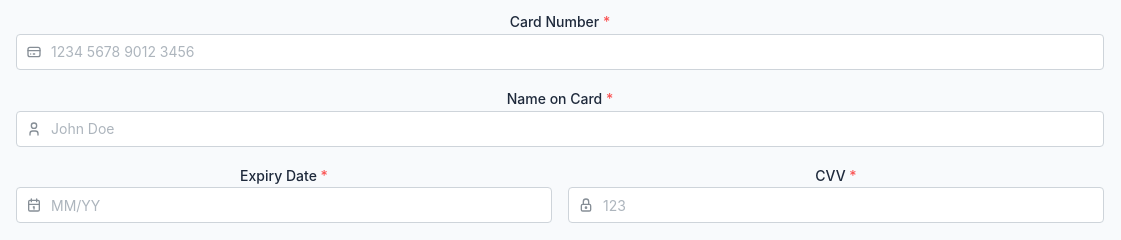
Test: PaymentInfoSection › should format expiry date with slash
The image size is (1121, 240).
Type "1225" into the field labelled "Expiry Date *" at (284, 205), box [16, 187, 552, 223]
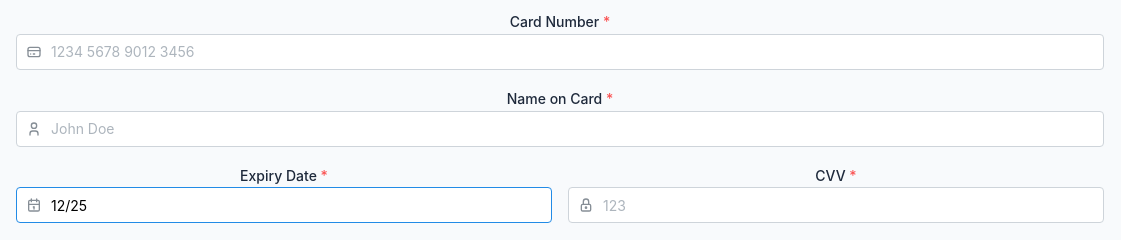
Check: the field labelled "Expiry Date *" holds "12/25", box [16, 187, 552, 223]
